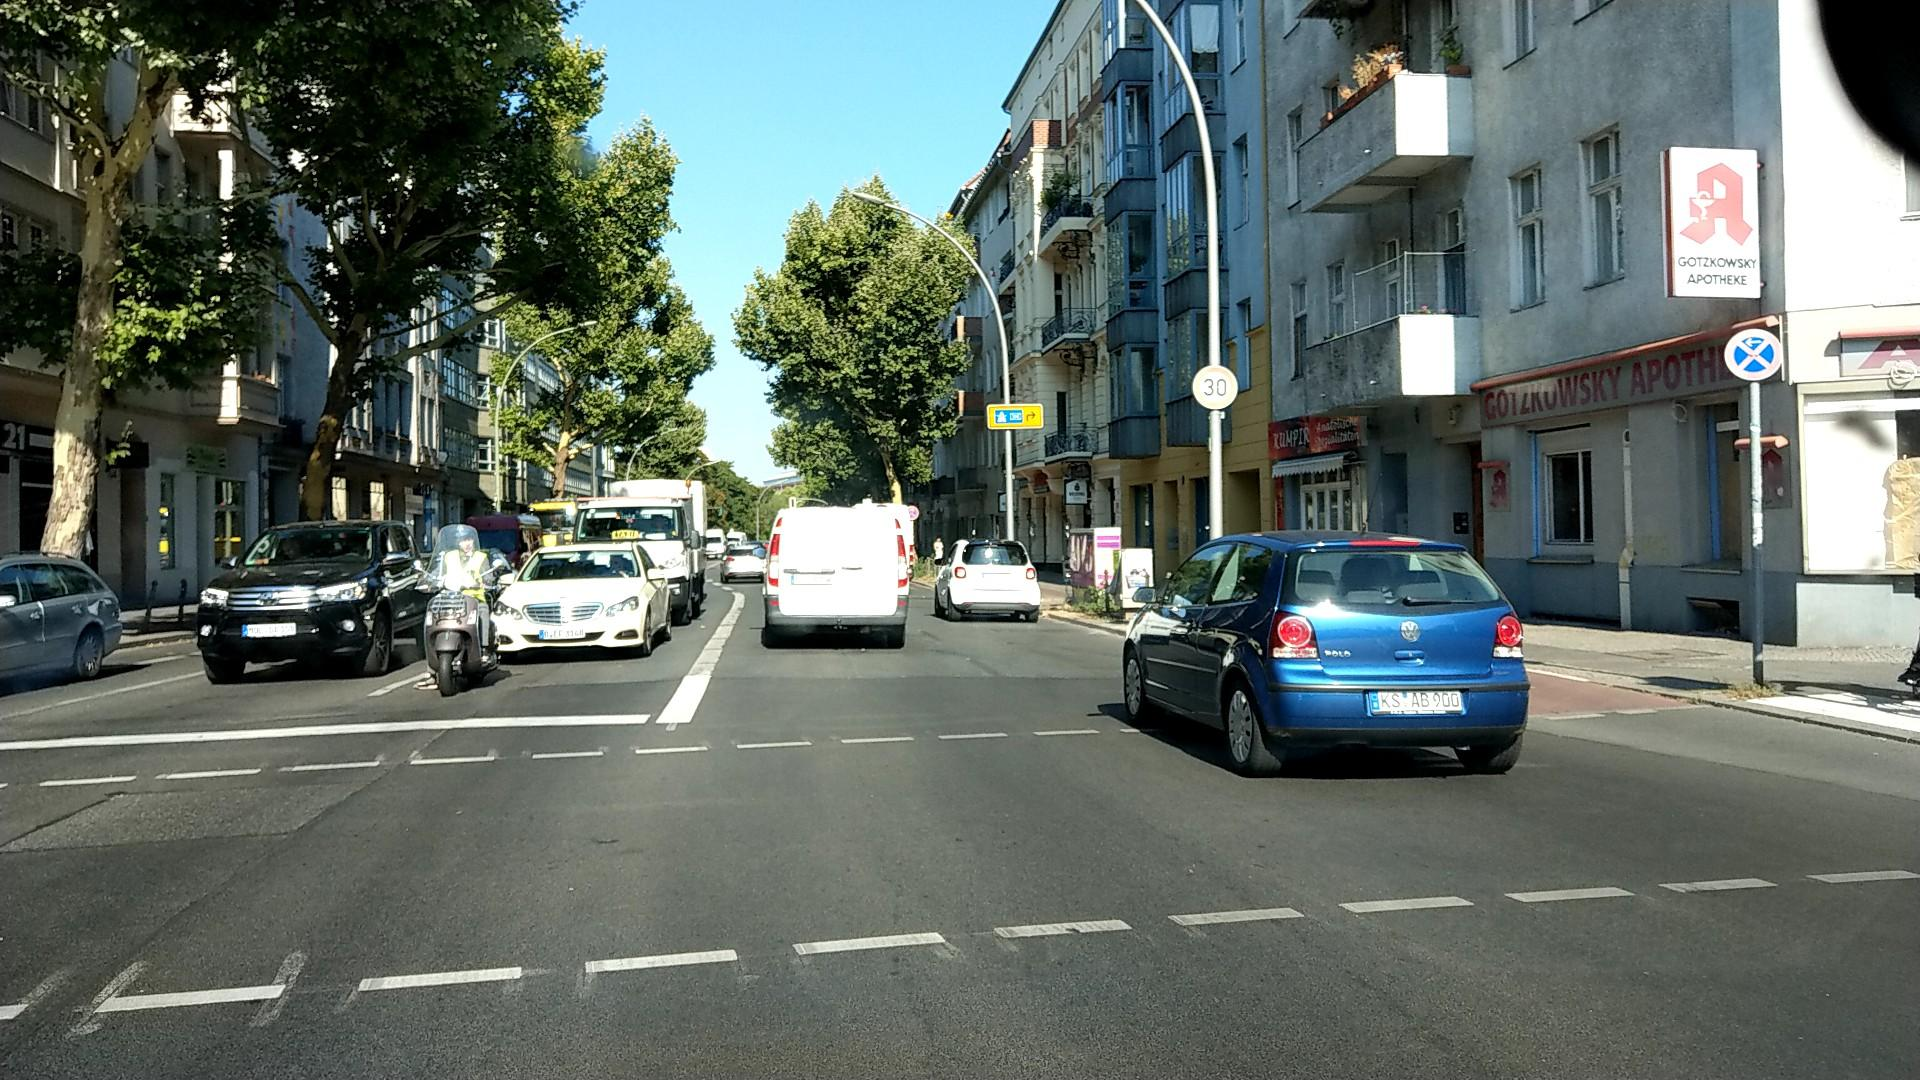Human face: (457, 533, 474, 555), (281, 542, 300, 559), (609, 555, 624, 571), (346, 540, 362, 554), (652, 515, 666, 530)
Vehicle registration plate: (1368, 689, 1463, 712), (242, 623, 297, 636), (790, 574, 833, 585), (539, 630, 584, 639)
